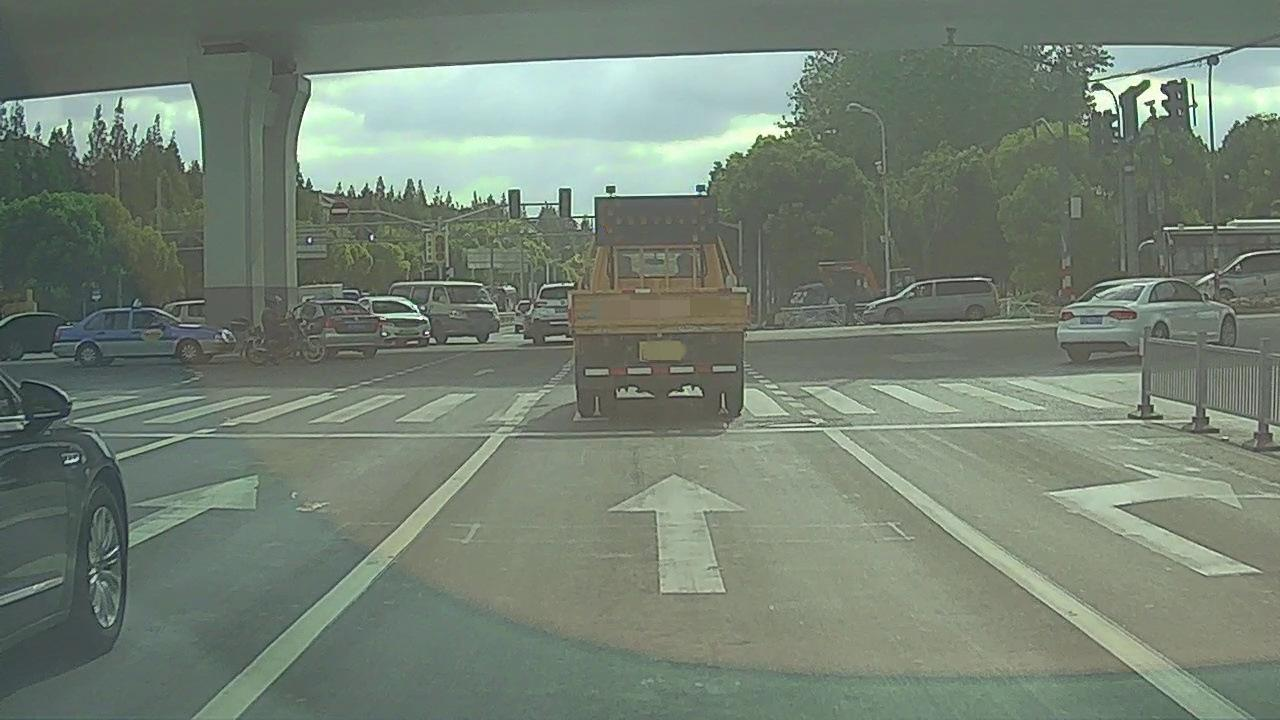traffic_light: (509, 190, 521, 219), (559, 188, 571, 217)
